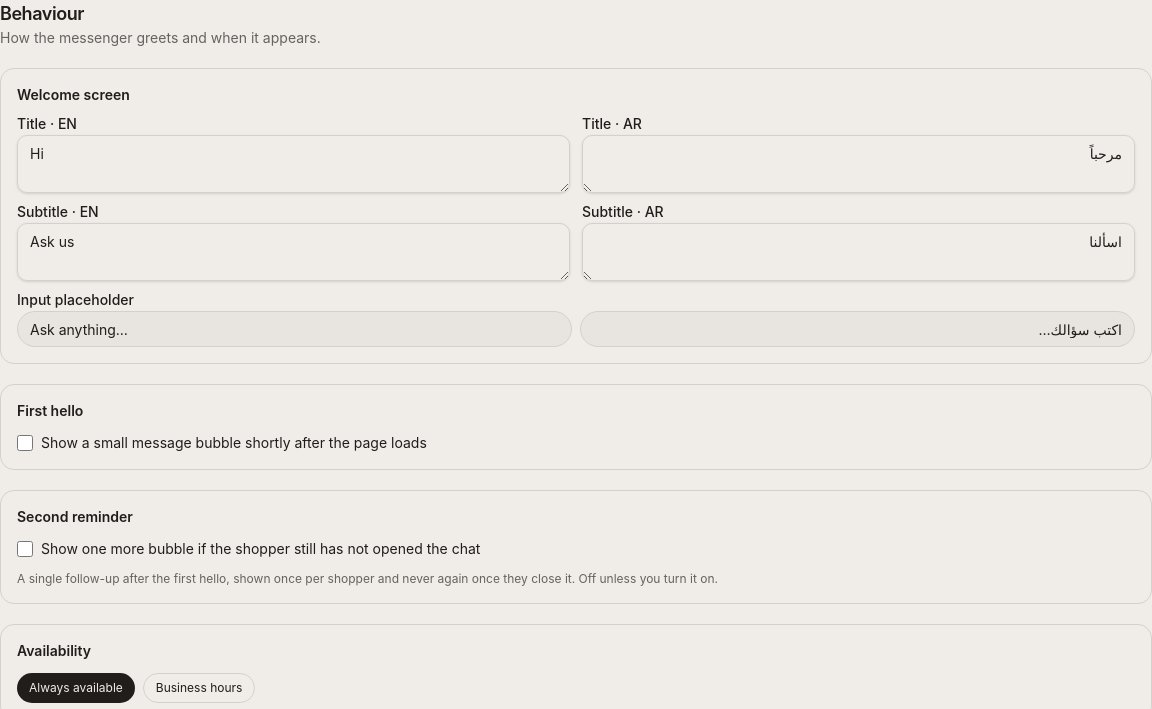
Test: BehaviourEditor opening hours defaults › switching to hours picks the store's own time zone instead of UTC
Click the button "Business hours". click: {"x": 199, "y": 688}
box: top-left (143, 673), bottom-right (255, 703)
(page scrolled)
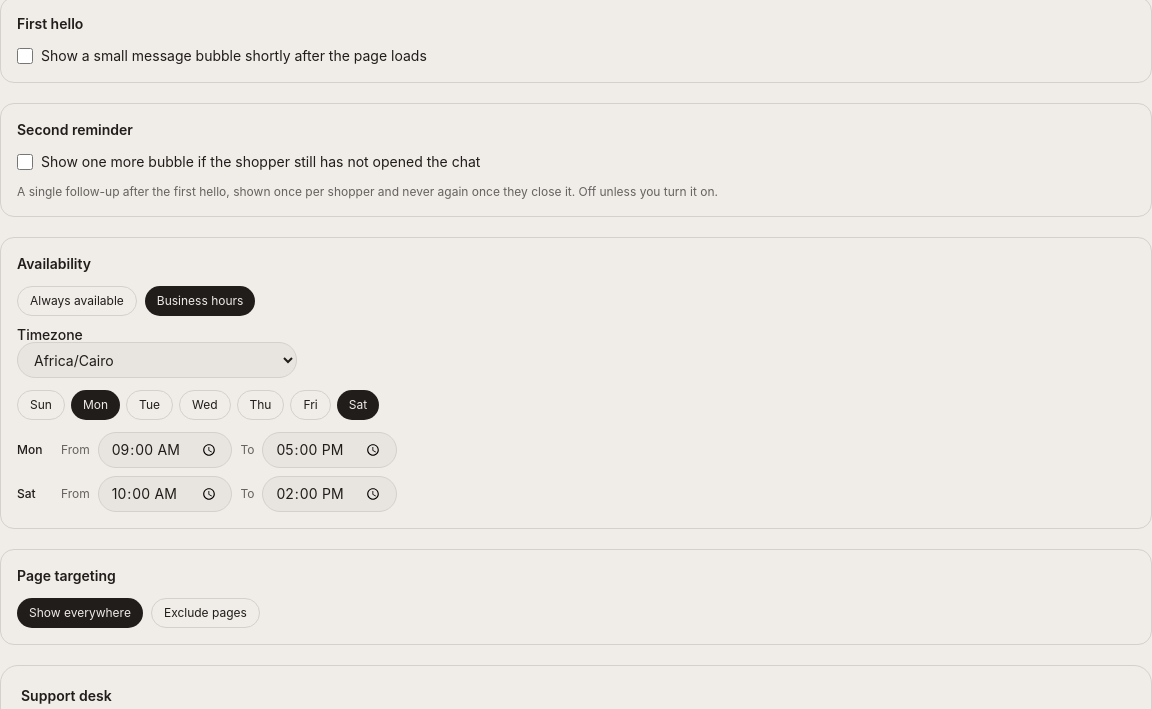
Check: the dropdown labelled "Timezone" shows "Africa/Cairo", box top-left (17, 342), bottom-right (297, 378)
